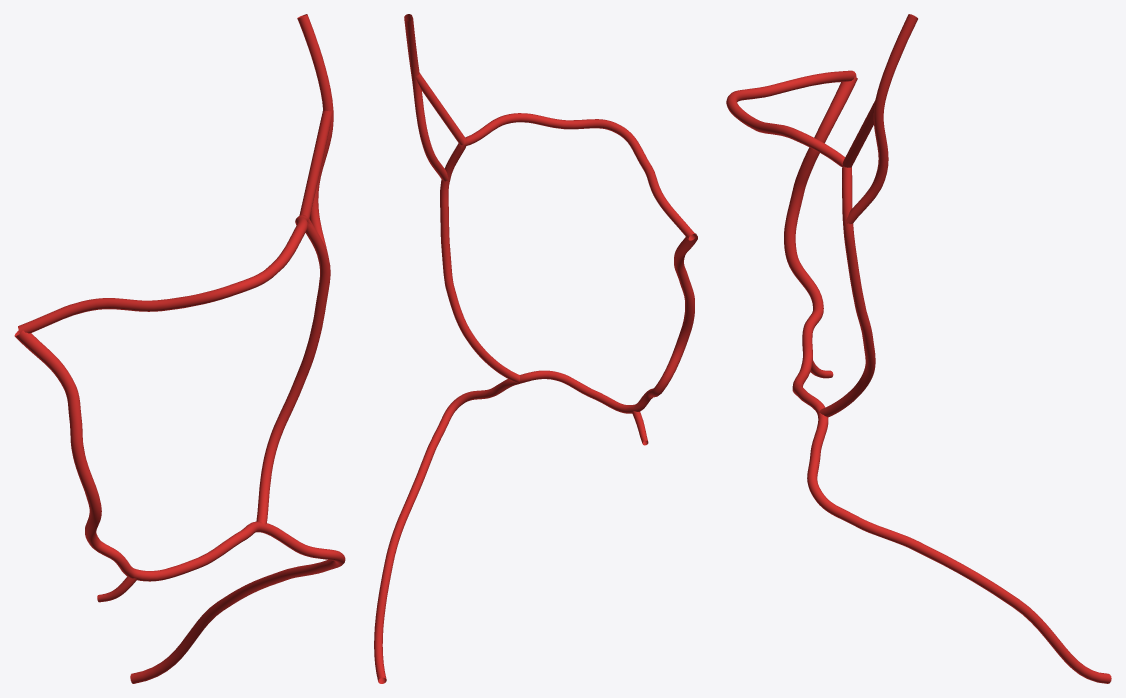
File: circulatorio-patellar-anastomosis-l.glb
The picture shows the model from 3 angles, left to right: view 1: azimuth 30°, elevation 25°; view 2: azimuth 150°, elevation 25°; view 3: azimuth 270°, elevation 25°; orthographic projection. The views are drawn at different scales.
Visible parts, largest first — view 1: Patellar anastomosis.l; view 2: Patellar anastomosis.l; view 3: Patellar anastomosis.l.
Part boxes in pixels (bbox=[...]): Patellar anastomosis.l: bbox=[14, 14, 345, 683]; Patellar anastomosis.l: bbox=[374, 14, 697, 683]; Patellar anastomosis.l: bbox=[726, 14, 1111, 683].
Size of the model in its own units: 0.0613 by 0.1279 by 0.0637.
